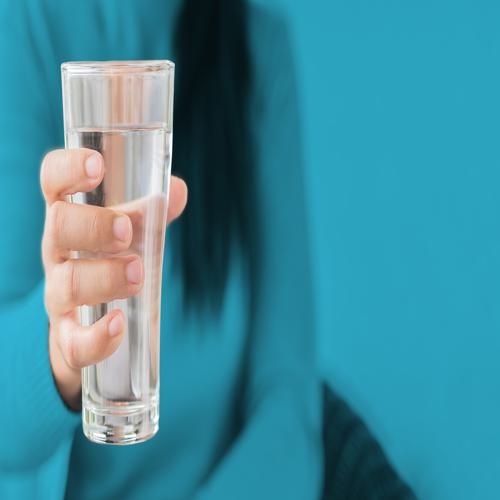vaso: (60, 62, 165, 445)
